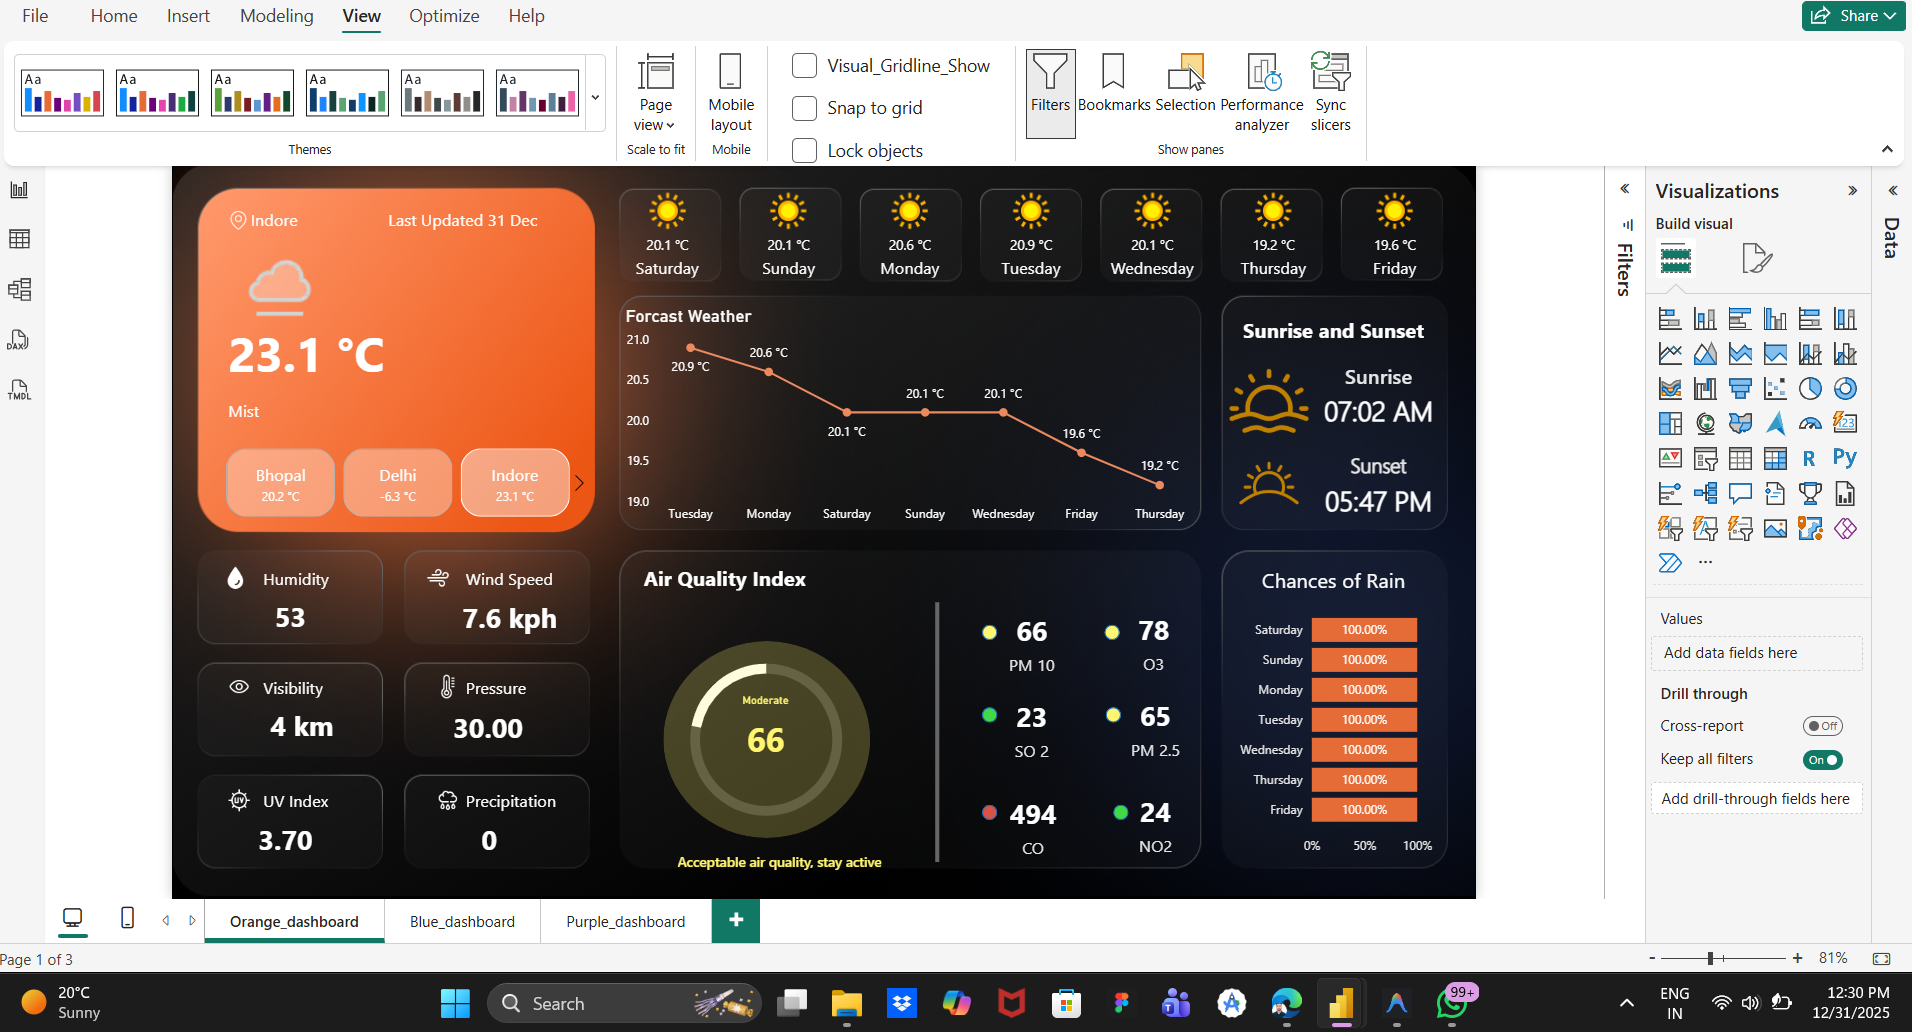

What the dashboard file says about the page in this screenshot:
{"tool":"powerbi","page":{"name":"Orange_dashboard","canvas":[1280,720],"ordinal":0},"visuals":[{"type":"donutChart","fields":{"Y":["_Measures.Left_Value_PM10","Sum(Current.current.air_quality.pm10)"]},"box":[460,465,246.7,196.7],"z":0},{"type":"shape","box":[481.7,466.7,203.3,193.3],"z":1000},{"type":"advancedSlicerVisual","fields":{"Values":["Locations.location.name"]},"box":[28.6,272.9,387.1,77.1],"z":2000},{"type":"shape","box":[55.7,148.6,232.9,68.6],"z":3000},{"type":"shape","box":[55.7,217.1,232.9,45.7],"z":4000},{"type":"shape","box":[77.1,30,107.1,45.7],"z":5000},{"type":"shape","box":[212.9,30,182.9,45.7],"z":6000},{"type":"image","box":[52.9,44.3,24.3,18.6],"z":7000},{"type":"cardVisual","fields":{"Data":["Min(Current.current.condition.icon)"]},"box":[28.6,52.9,155.7,121.4],"z":8000},{"type":"image","box":[30,392.9,65.7,22.9],"z":9000},{"type":"image","box":[232.9,392.9,55.7,22.9],"z":10000},{"type":"image","box":[32.9,500,65.7,22.9],"z":11000},{"type":"image","box":[32.9,611.4,65.7,22.9],"z":12000},{"type":"image","box":[238.6,500,65.7,22.9],"z":13000},{"type":"image","box":[238.6,611.4,65.7,22.9],"z":14000},{"type":"shape","box":[90,381.4,122.9,45.7],"z":15000},{"type":"shape","box":[288.6,381.4,122.9,45.7],"z":16000},{"type":"shape","box":[90,488.6,122.9,45.7],"z":17000},{"type":"shape","box":[288.6,488.6,122.9,45.7],"z":18000},{"type":"shape","box":[90,600,122.9,45.7],"z":19000},{"type":"shape","box":[288.6,600,122.9,45.7],"z":20000},{"type":"card","fields":{"Values":["Sum(Current.current.humidity)"]},"box":[77.1,404.3,78.6,78.6],"z":21000},{"type":"card","fields":{"Values":["_Measures.Wind_Speed"]},"box":[251.1,404.8,160.5,78.2],"z":22000},{"type":"card","fields":{"Values":["_Measures.Visibility"]},"box":[42.5,511.8,170.2,78.2],"z":23000},{"type":"card","fields":{"Values":["Sum(Current.current.pressure_in)"]},"box":[271.4,512.9,78.6,78.6],"z":24000},{"type":"card","fields":{"Values":["Sum(Current.current.uv)"]},"box":[72.9,622.9,78.6,78.6],"z":25000},{"type":"card","fields":{"Values":["Sum(Current.current.precip_in)"]},"box":[272.9,622.9,78.6,78.6],"z":26000},{"type":"advancedSlicerVisual","fields":{"Values":["Forcast_Day.Day_Name"]},"box":[426.3,18,836,109.6],"z":27000},{"type":"lineChart","title":"Forcast Weather","fields":{"Y":["Sum(Forcast_Day.forecast.forecastday.day.avgtemp_c)"],"Category":["Forcast_Day.Day_Name"]},"box":[440.9,137.2,565,221.9],"z":28000},{"type":"shape","box":[1038,137.2,204.4,45.3],"z":29000},{"type":"shape","box":[1105.1,217.5,157.7,45.3],"z":30000},{"type":"shape","box":[1105.1,305.1,157.7,45.3],"z":31000},{"type":"shape","box":[1105.1,182.5,157.7,45.3],"z":32000},{"type":"shape","box":[1105.1,270.1,157.7,45.3],"z":33000},{"type":"image","box":[1038,189.8,77.4,80.3],"z":34000},{"type":"image","box":[1038,273,77.4,77.4],"z":35000},{"type":"hundredPercentStackedBarChart","title":"Chances of Rain","fields":{"Y":["_Measures.left_Val_Rain","Sum(Forcast_Day.forecast.forecastday.day.daily_chance_of_rain)"],"Category":["Forcast_Day.Day_Name"]},"box":[1038.1,393.2,204.5,292.6],"z":36000},{"type":"shape","box":[440.4,382.2,204.5,44],"z":37000},{"type":"card","fields":{"Values":["Sum(Current.current.air_quality.o3)"]},"box":[924,428,80,78],"z":38000},{"type":"card","fields":{"Values":["Sum(Current.current.air_quality.pm2_5)"]},"box":[926.4,511.2,78.6,78.6],"z":39000},{"type":"card","fields":{"Values":["Sum(Current.current.air_quality.no2)"]},"box":[926.4,605.6,78.6,78.6],"z":40000},{"type":"card","fields":{"Values":["Sum(Current.current.air_quality.pm10)"]},"box":[805.3,427.8,78.6,78.6],"z":41000},{"type":"card","fields":{"Values":["Sum(Current.current.air_quality.so2)"]},"box":[805.3,512.8,78.6,78.6],"z":42000},{"type":"card","fields":{"Values":["Sum(Current.current.air_quality.co)"]},"box":[786,608,118,78],"z":43000},{"type":"shape","box":[795,450,15,15],"z":44000},{"type":"shape","box":[795,531.7,15,15],"z":45000},{"type":"shape","box":[795,626.7,15,15],"z":46000},{"type":"shape","box":[915,450,15,15],"z":47000},{"type":"shape","box":[916.7,531.7,15,15],"z":48000},{"type":"shape","box":[923.3,626.7,15,15],"z":49000},{"type":"shape","box":[715,428.3,71.7,255],"z":50000},{"type":"card","fields":{"Values":["Sum(Current.current.air_quality.pm10)"]},"box":[543.3,518.3,78.3,78.3],"z":51000},{"type":"shape","box":[440,660,311.7,45],"z":52000}]}

Visuals, with their boxes on the page's 1280x720 design canvas (x1, y1, x2, y2). These are canvas units, not pixel positions in the 1912x1032 screenshot, which may show the page scaled, cropped or inside an application window:
donutChart - _Measures.Left_Value_PM10 x Sum(Current.current.air_quality.pm10): crop(460, 465, 707, 662)
shape: crop(482, 467, 685, 660)
advancedSlicerVisual - Locations.location.name: crop(29, 273, 416, 350)
shape: crop(56, 149, 289, 217)
shape: crop(56, 217, 289, 263)
shape: crop(77, 30, 184, 76)
shape: crop(213, 30, 396, 76)
image: crop(53, 44, 77, 63)
cardVisual - Min(Current.current.condition.icon): crop(29, 53, 184, 174)
image: crop(30, 393, 96, 416)
image: crop(233, 393, 289, 416)
image: crop(33, 500, 99, 523)
image: crop(33, 611, 99, 634)
image: crop(239, 500, 304, 523)
image: crop(239, 611, 304, 634)
shape: crop(90, 381, 213, 427)
shape: crop(289, 381, 412, 427)
shape: crop(90, 489, 213, 534)
shape: crop(289, 489, 412, 534)
shape: crop(90, 600, 213, 646)
shape: crop(289, 600, 412, 646)
card - Sum(Current.current.humidity): crop(77, 404, 156, 483)
card - _Measures.Wind_Speed: crop(251, 405, 412, 483)
card - _Measures.Visibility: crop(42, 512, 213, 590)
card - Sum(Current.current.pressure_in): crop(271, 513, 350, 592)
card - Sum(Current.current.uv): crop(73, 623, 152, 702)
card - Sum(Current.current.precip_in): crop(273, 623, 352, 702)
advancedSlicerVisual - Forcast_Day.Day_Name: crop(426, 18, 1262, 128)
"Forcast Weather" lineChart: crop(441, 137, 1006, 359)
shape: crop(1038, 137, 1242, 182)
shape: crop(1105, 218, 1263, 263)
shape: crop(1105, 305, 1263, 350)
shape: crop(1105, 182, 1263, 228)
shape: crop(1105, 270, 1263, 315)
image: crop(1038, 190, 1115, 270)
image: crop(1038, 273, 1115, 350)
"Chances of Rain" hundredPercentStackedBarChart: crop(1038, 393, 1243, 686)
shape: crop(440, 382, 645, 426)
card - Sum(Current.current.air_quality.o3): crop(924, 428, 1004, 506)
card - Sum(Current.current.air_quality.pm2_5): crop(926, 511, 1005, 590)
card - Sum(Current.current.air_quality.no2): crop(926, 606, 1005, 684)
card - Sum(Current.current.air_quality.pm10): crop(805, 428, 884, 506)
card - Sum(Current.current.air_quality.so2): crop(805, 513, 884, 591)
card - Sum(Current.current.air_quality.co): crop(786, 608, 904, 686)
shape: crop(795, 450, 810, 465)
shape: crop(795, 532, 810, 547)
shape: crop(795, 627, 810, 642)
shape: crop(915, 450, 930, 465)
shape: crop(917, 532, 932, 547)
shape: crop(923, 627, 938, 642)
shape: crop(715, 428, 787, 683)
card - Sum(Current.current.air_quality.pm10): crop(543, 518, 622, 597)
shape: crop(440, 660, 752, 705)
